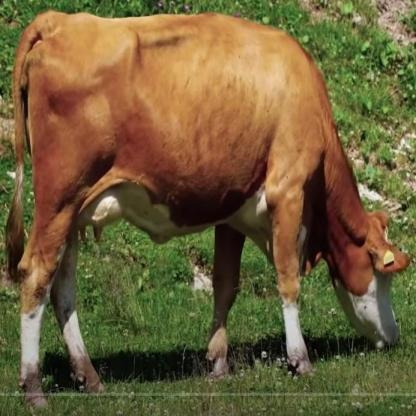cow: (22, 14, 404, 412)
